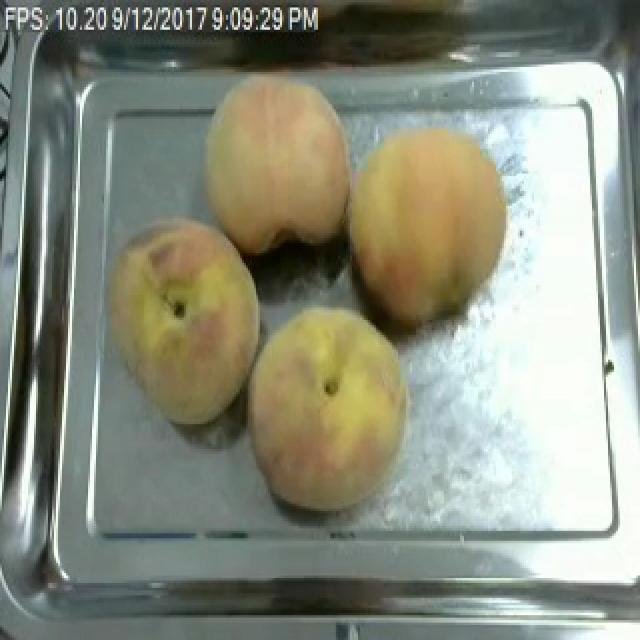Fruit: (236, 293, 418, 518), (336, 112, 518, 337), (94, 208, 270, 432), (192, 64, 364, 260)
